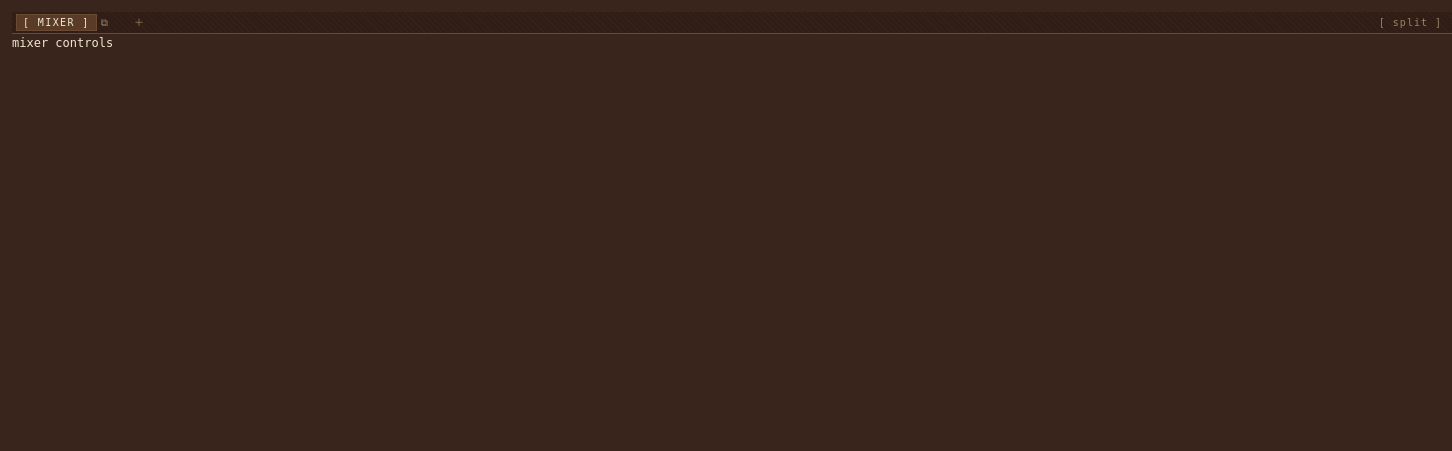
PluginDock › floats a plugin when the float button is clicked
The width and height of the screenshot is (1452, 451).
Click the button titled "Float MIXER": point(104, 22) [97,14,112,31]
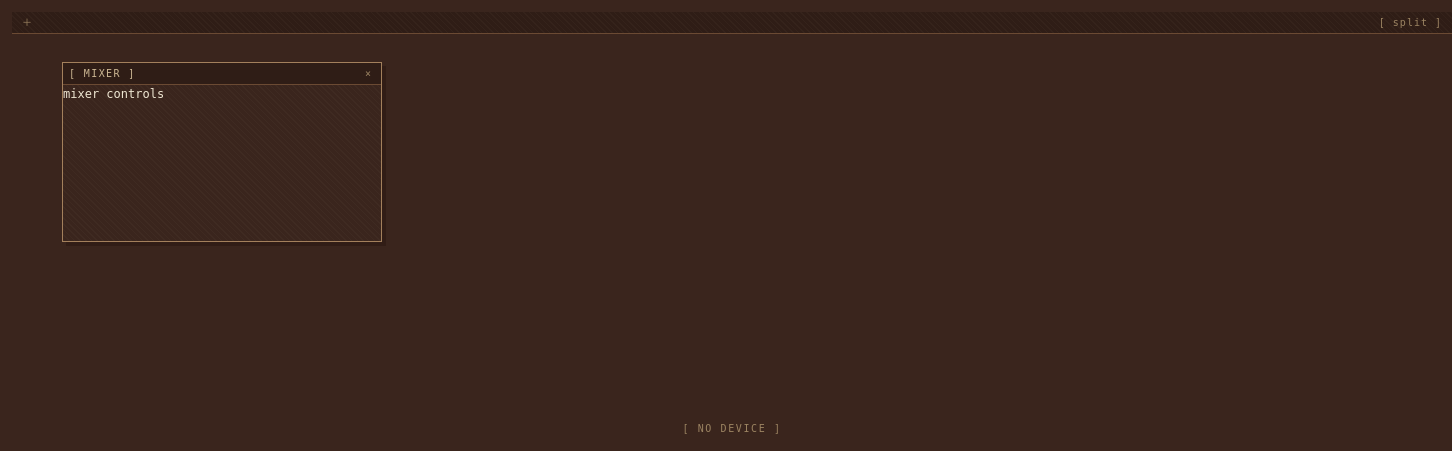
Now the element with class "floating-panel" is shown, box [62,62,382,242]
